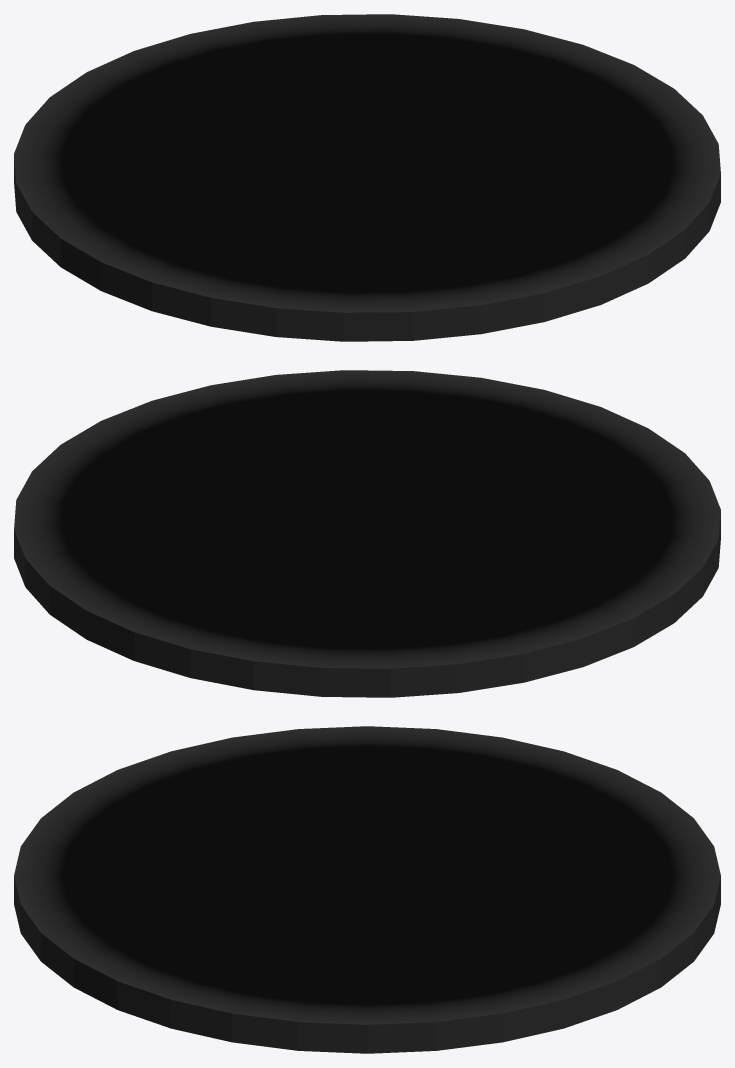
Rendered from RisingPillarGenesisBase.glb.
The picture shows the model from 3 angles, top to bottom: view 1: azimuth 30°, elevation 25°; view 2: azimuth 150°, elevation 25°; view 3: azimuth 270°, elevation 25°; orthographic projection.
Visible parts, largest first — view 1: Base; view 2: Base; view 3: Base.
Part boxes in pixels (x1=…): Base: x1=14, y1=14, x2=720, y2=341; Base: x1=14, y1=370, x2=720, y2=697; Base: x1=14, y1=726, x2=720, y2=1053.
Bounding box in the file's own units: 2.49 × 0.1121 × 2.49.
Materials: 1 (1 with a texture image).
